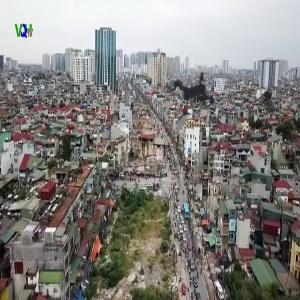drone: (140, 40, 246, 146)
